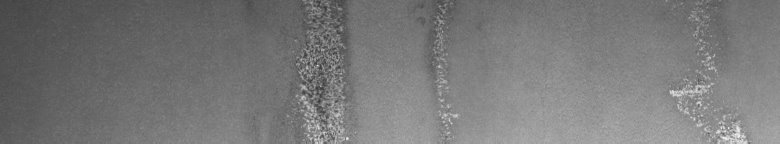hc: (285, 4, 356, 136)
